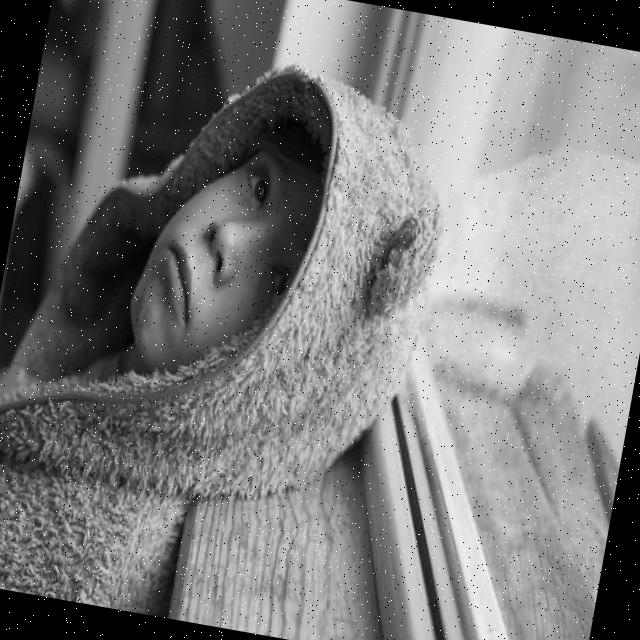Sadness: (119, 124, 361, 404)
